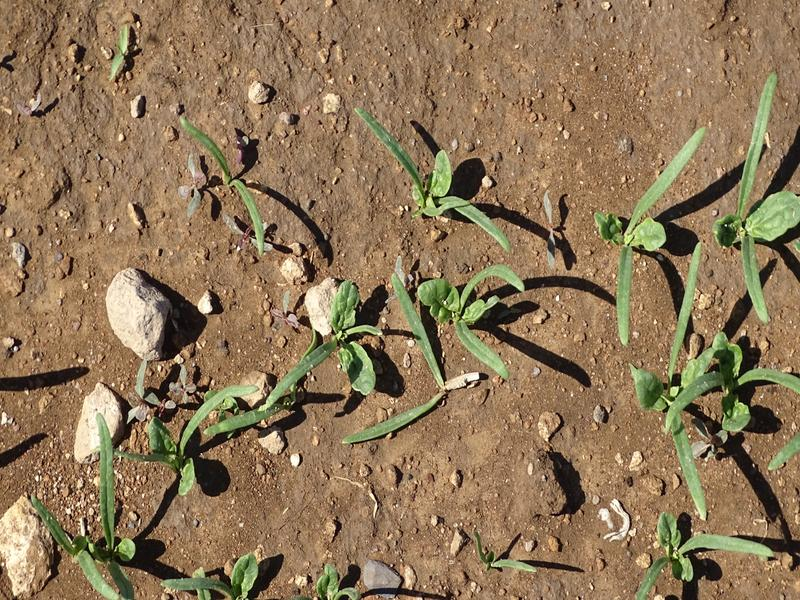Espinaca: (598, 105, 799, 515), (362, 108, 520, 251), (390, 261, 521, 411), (119, 384, 290, 494), (40, 421, 138, 593), (181, 120, 274, 256), (630, 516, 778, 600), (292, 282, 374, 384), (171, 559, 260, 600), (312, 568, 351, 600)
